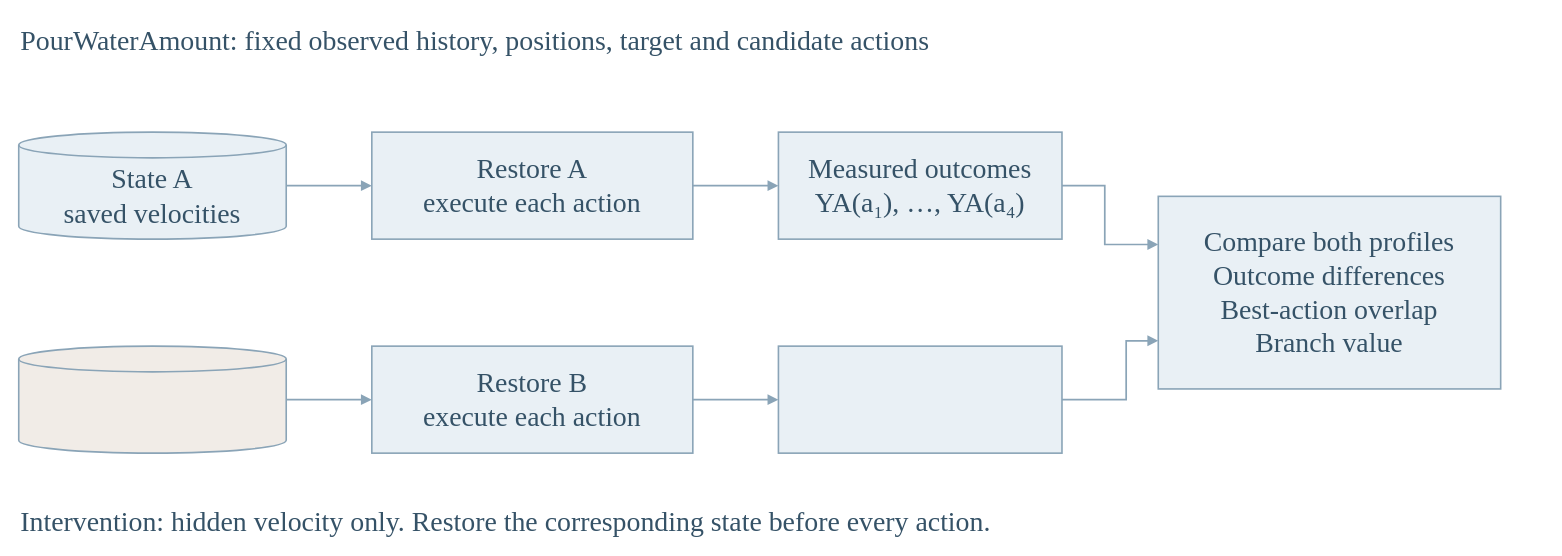
Image size: 1562x556. Some labels were removed from this diagram. The shapes that lost their labels are listed below. From the top down, each one's centre as x and y in pixels, then its label:
At pixel 152 399: "State B changed velocities".
At pixel 919 399: "Measured outcomes YB(a₁), …, YB(a₄)".
